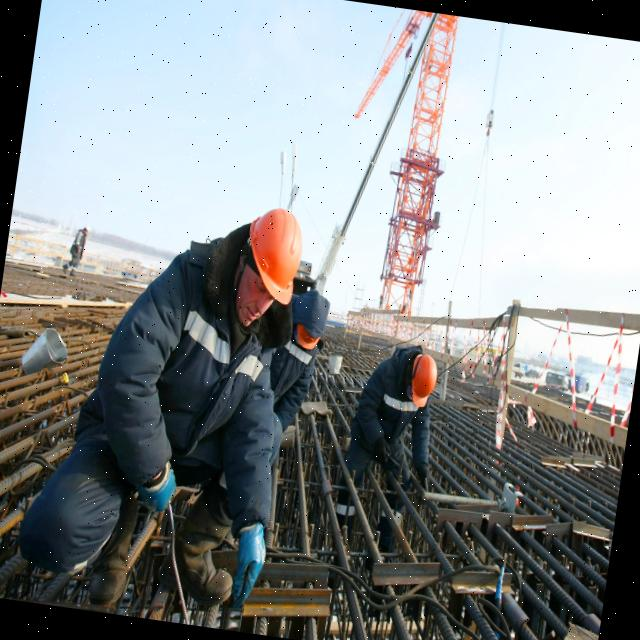Helmet: (241, 206, 311, 309), (408, 353, 441, 411), (293, 329, 323, 356)
NoJacket: (108, 303, 271, 517), (363, 362, 412, 457), (276, 351, 313, 415), (72, 232, 86, 262)
